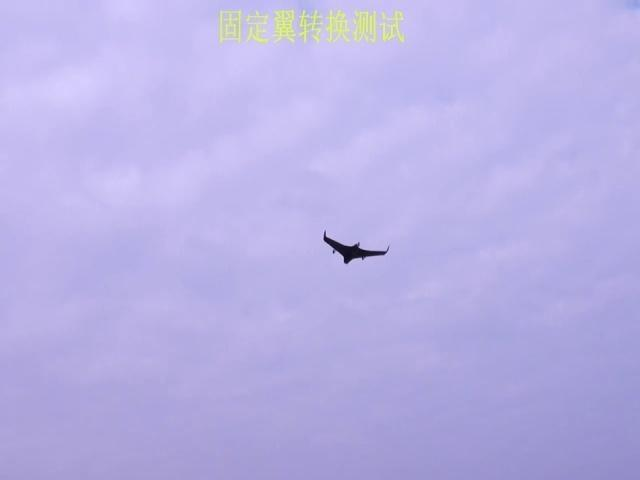Airplane: (323, 229, 390, 265)
